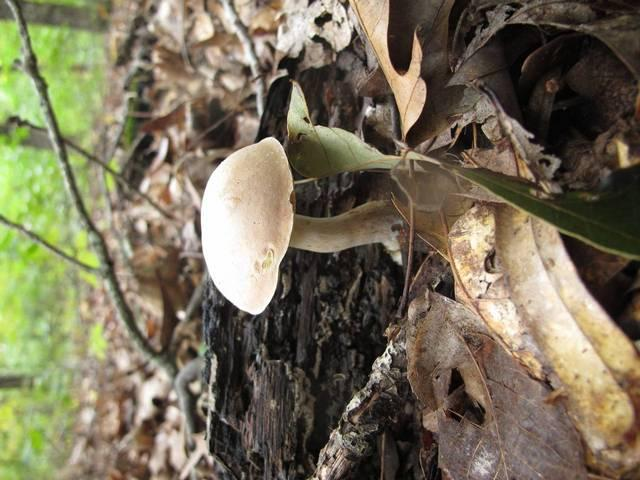Edible Mushroom: (199, 135, 407, 315)
